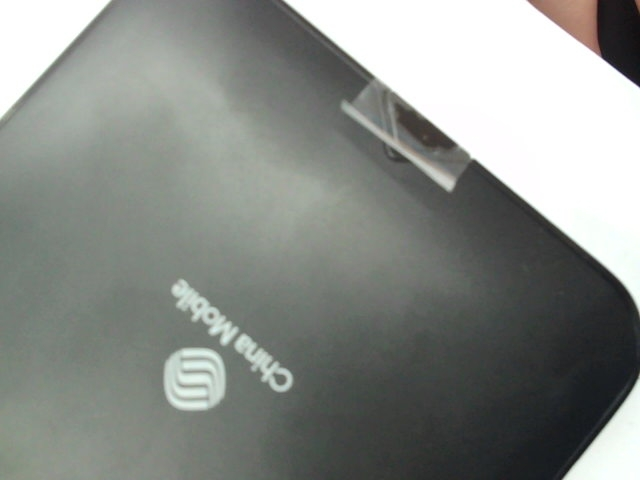AA_ChinaMobile: (132, 264, 300, 417)
